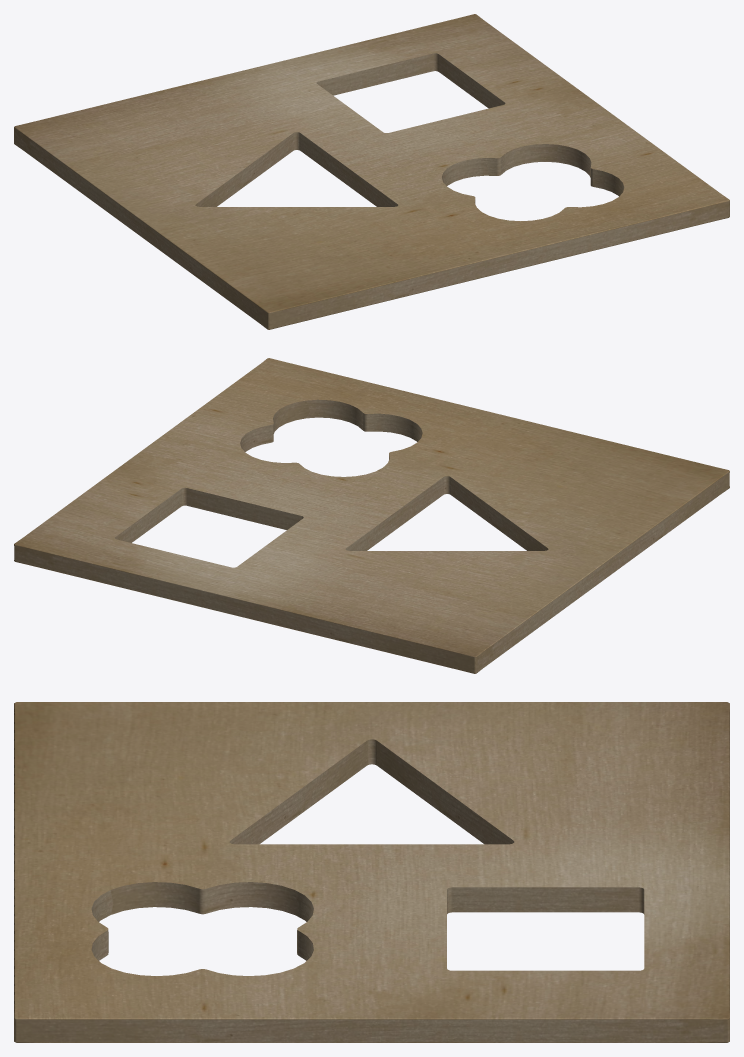
File: shape_box_lid.glb
3 views of the same model, one above another, from view 1: azimuth 30°, elevation 25°; view 2: azimuth 150°, elevation 25°; view 3: azimuth 270°, elevation 25° (orthographic). The views are drawn at different scales.
Parts seen in each view (by area): view 1: shape_box_2_lid; view 2: shape_box_2_lid; view 3: shape_box_2_lid.
Part boxes in pixels (x1,y1,x2,y2): shape_box_2_lid: (14, 14, 729, 329); shape_box_2_lid: (14, 358, 729, 673); shape_box_2_lid: (14, 702, 729, 1042).
Bounding box in the file's own units: 0.133 × 0.0049 × 0.127.
Materials: 1 (1 with a texture image).
